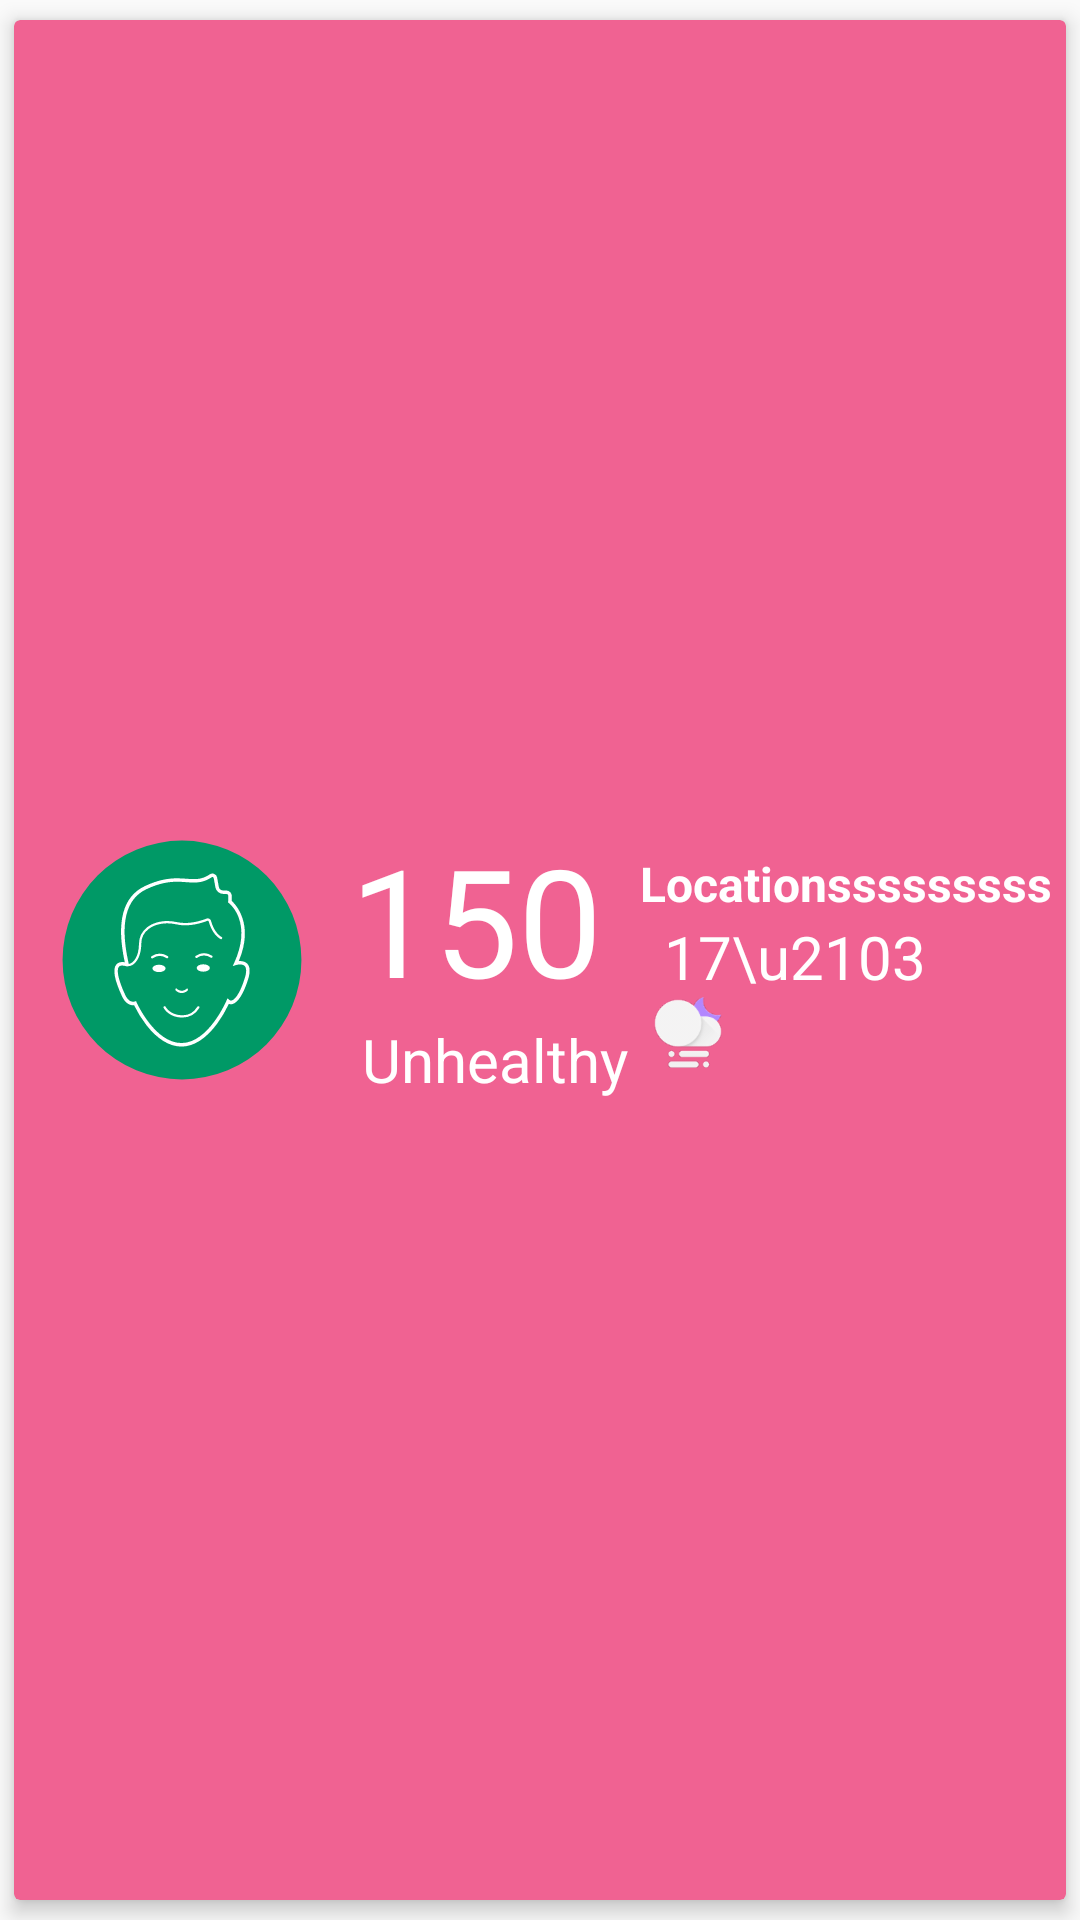

Where to tap for icons on this 1080px x 1920px app screen, as [x,y]:
air good: [182,960]
haze night: [688,1032]
